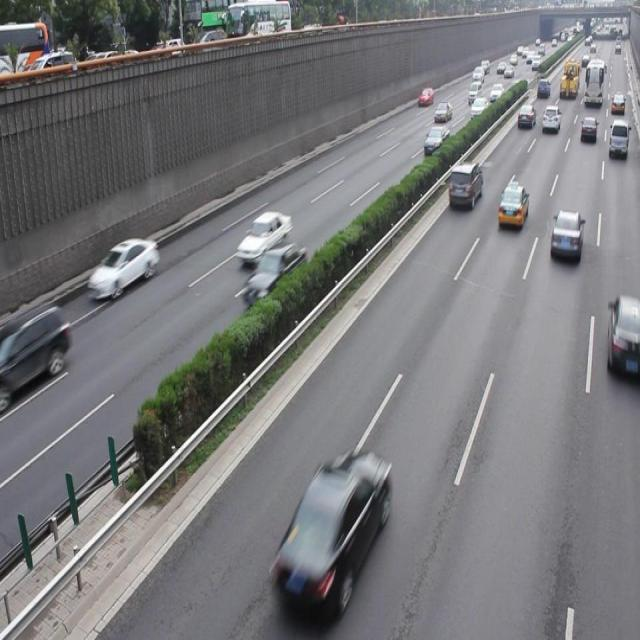car: (268, 446, 390, 626), (1, 300, 72, 400), (86, 235, 159, 301), (240, 242, 306, 306), (604, 295, 640, 379), (236, 210, 291, 264), (549, 208, 582, 264), (495, 183, 527, 231)
truck: (447, 160, 482, 211)
